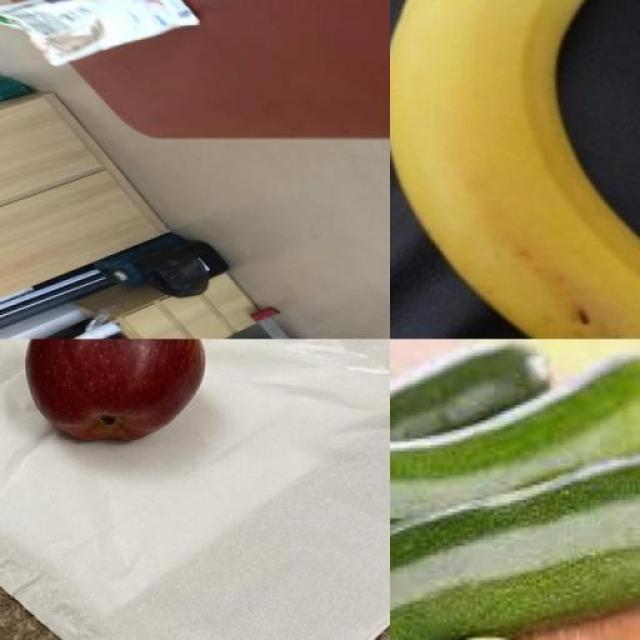Zucchini: (390, 343, 640, 558), (390, 446, 640, 640)
